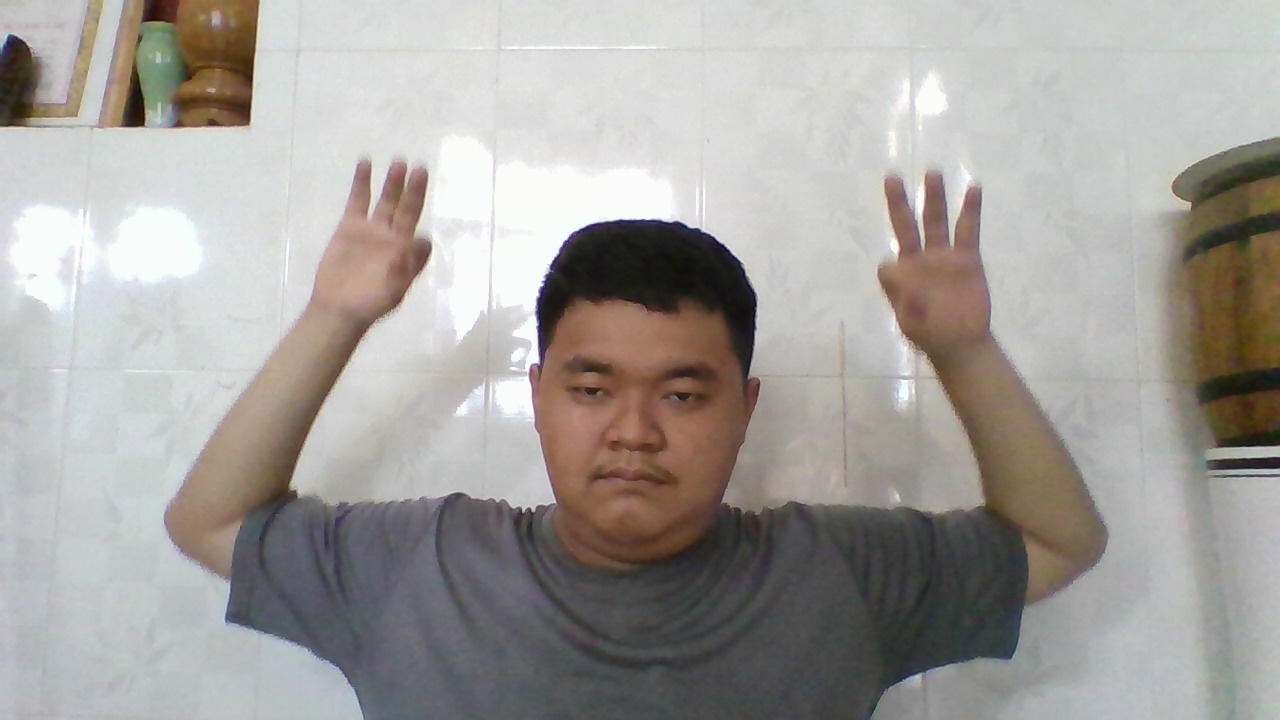T: (871, 159, 992, 359), (318, 149, 438, 326)
